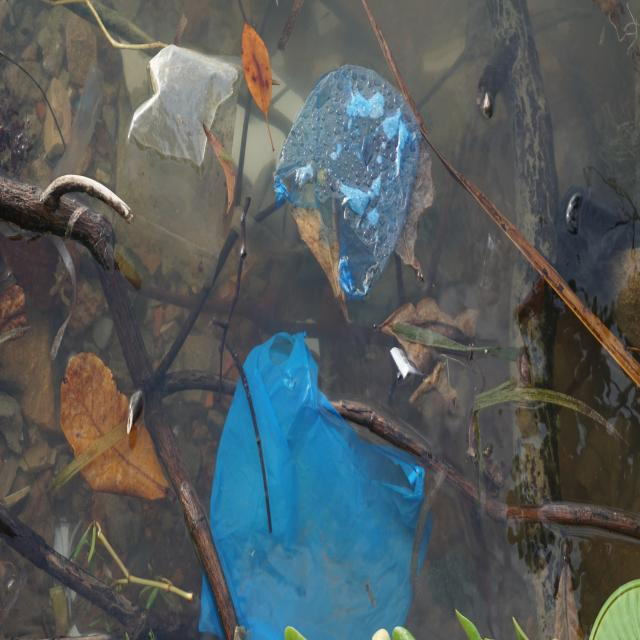Kantong Plastik: (202, 331, 436, 640), (275, 57, 424, 301), (121, 42, 239, 288)
